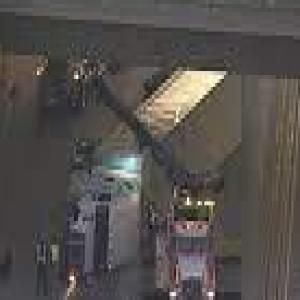severe: (60, 50, 249, 286)
